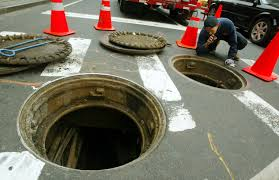Manhole-Open: (13, 69, 169, 169), (167, 46, 253, 97)
car: (214, 1, 279, 40)
human: (196, 11, 249, 67)
